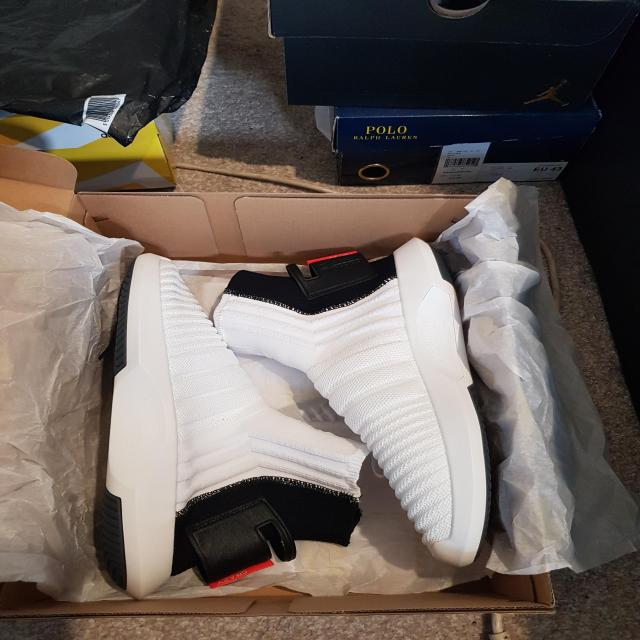shoe: (224, 237, 493, 565), (95, 252, 298, 598)
